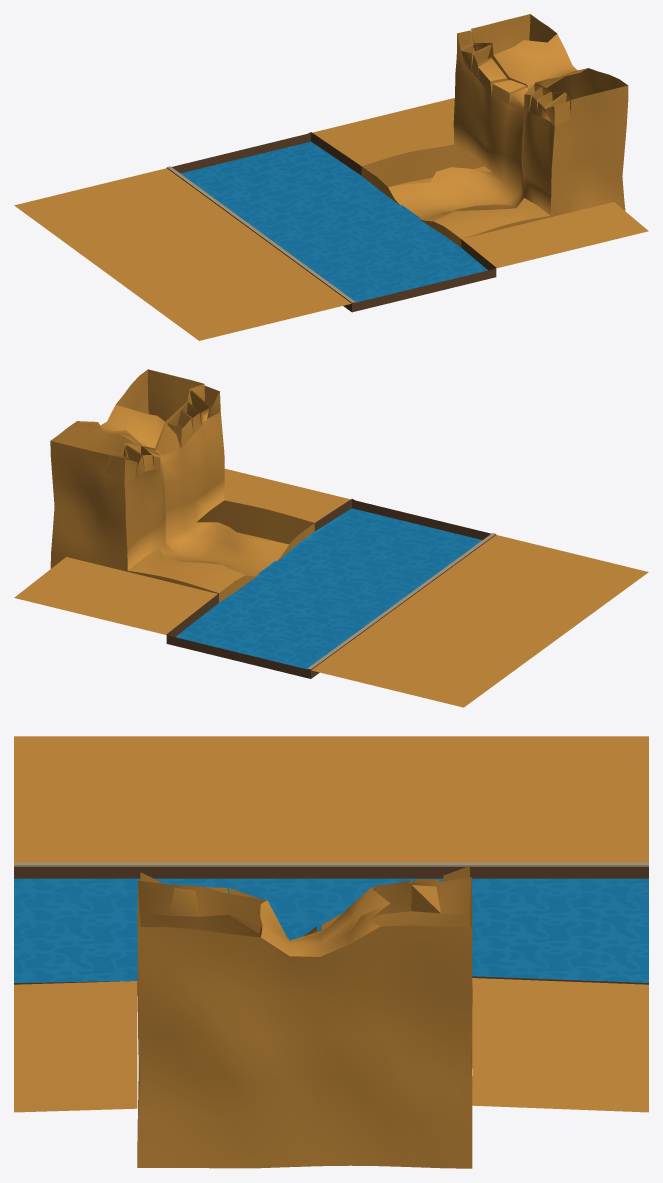
The model's file is sea patch.FBX.
The picture shows the model from 3 angles, top to bottom: view 1: azimuth 30°, elevation 25°; view 2: azimuth 150°, elevation 25°; view 3: azimuth 270°, elevation 25°; orthographic projection. The views are drawn at different scales.
Parts seen in each view (by area): view 1: Sea Patch; view 2: Sea Patch; view 3: Sea Patch.
Part boxes in pixels (x1=…): Sea Patch: x1=14, y1=14, x2=648, y2=340; Sea Patch: x1=14, y1=369, x2=648, y2=707; Sea Patch: x1=14, y1=736, x2=648, y2=1168.
Bounding box in the file's own units: 7735 × 2256 × 5334.
